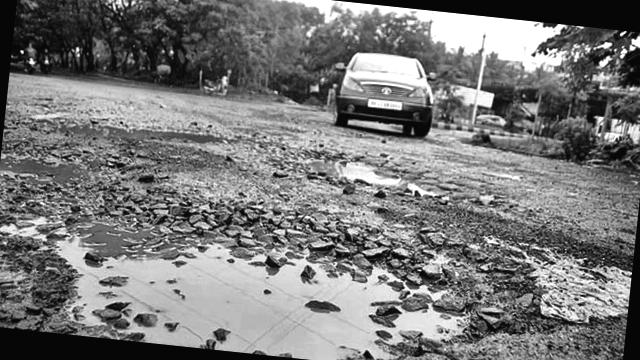Pothole: (0, 190, 491, 360), (271, 122, 460, 218), (19, 97, 236, 158), (509, 230, 635, 332), (0, 142, 117, 199)
